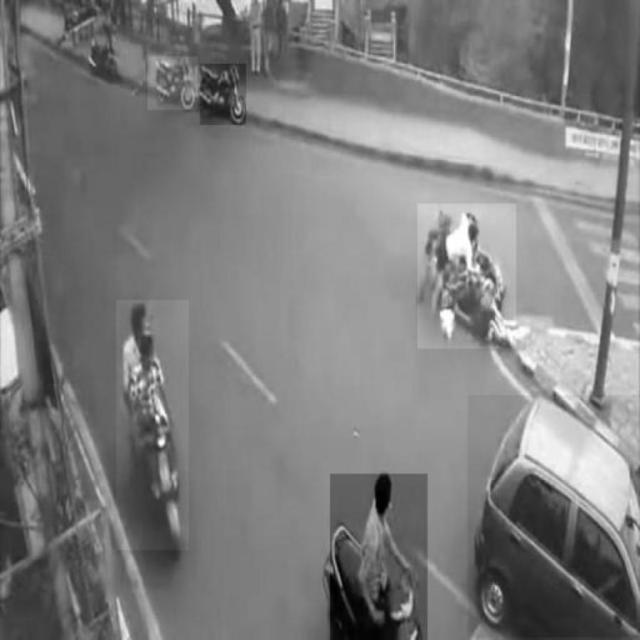accident: (418, 204, 516, 348)
vehicle: (468, 395, 640, 637), (116, 300, 188, 550), (330, 474, 428, 640), (201, 64, 247, 125), (148, 56, 198, 110)
